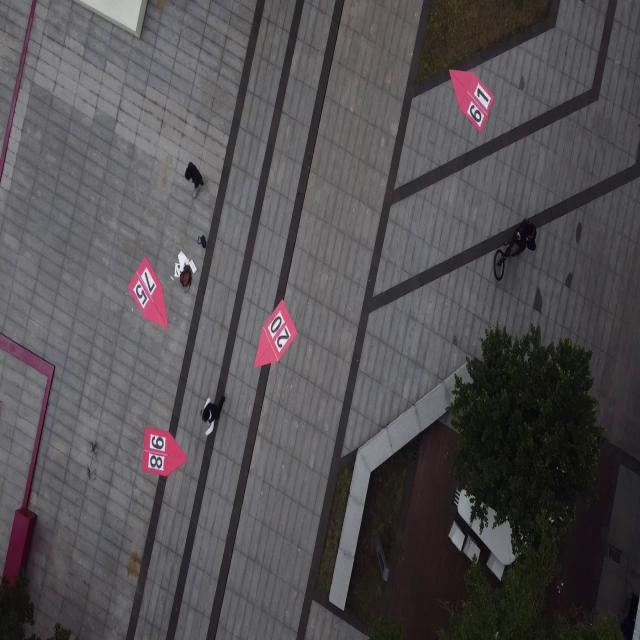-sign-: (254, 298, 298, 369), (128, 257, 169, 330), (449, 68, 493, 134), (142, 428, 187, 478)
